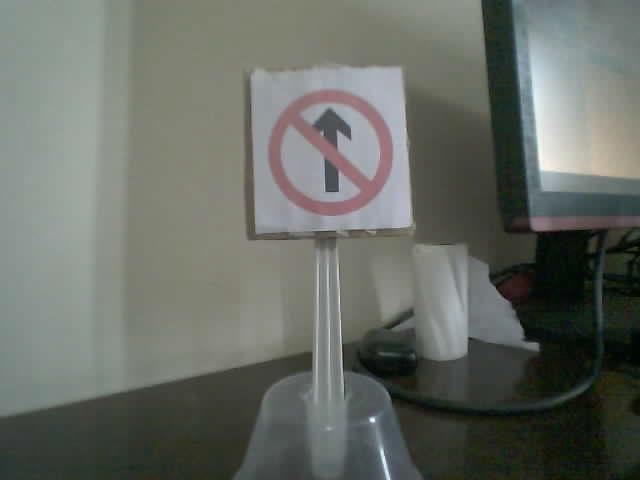R-3_sentido-proibido: (268, 88, 392, 216)
